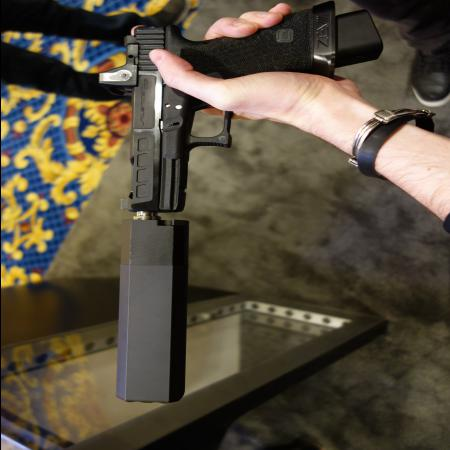Pistol: (97, 3, 381, 215)
